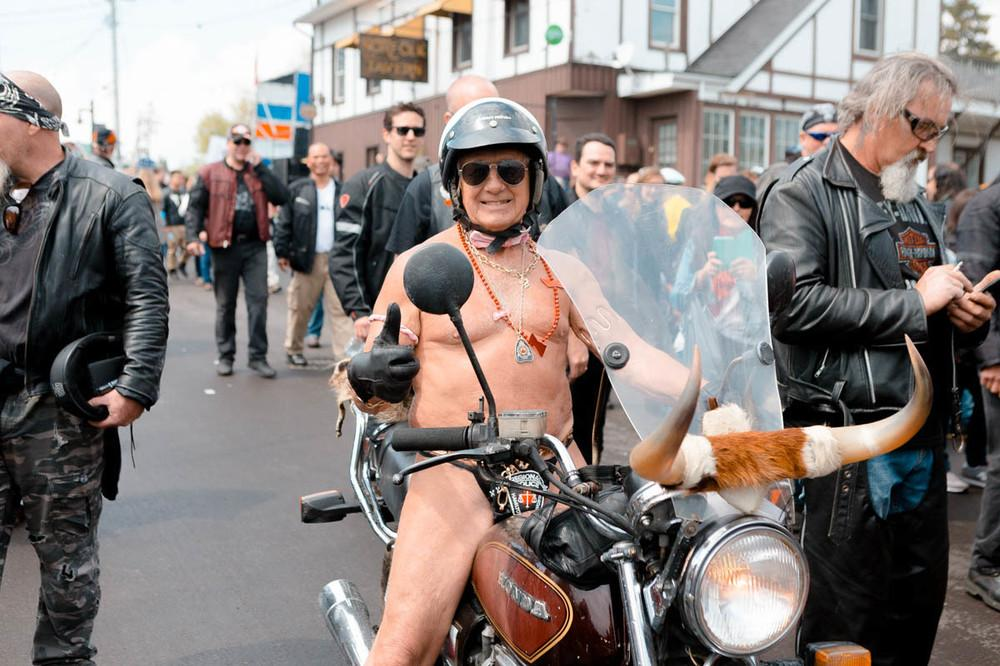helmet: (404, 63, 716, 603)
